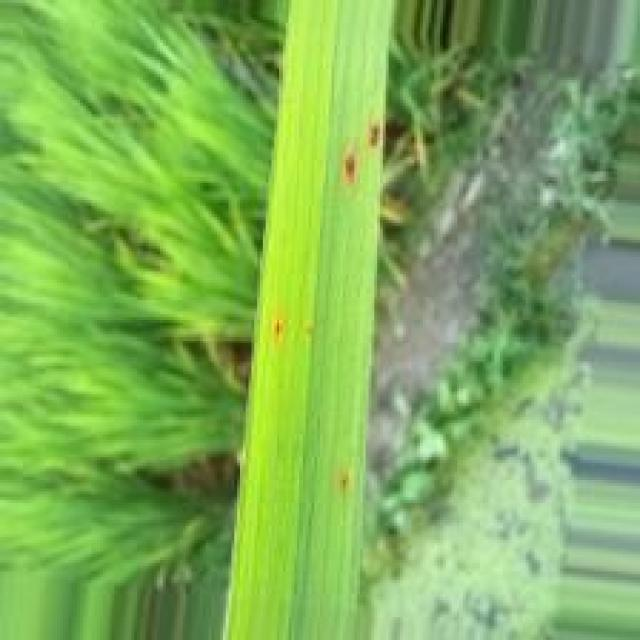Brown_Spot: (338, 147, 362, 189), (364, 120, 383, 152), (267, 315, 287, 344), (333, 464, 350, 495)
